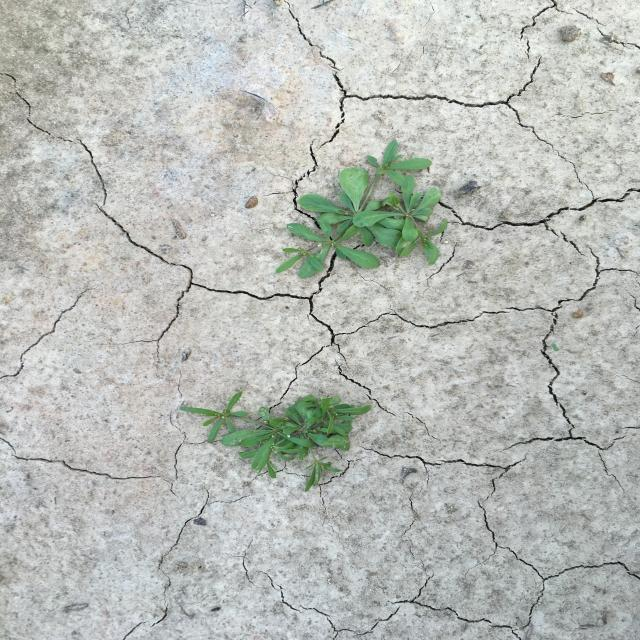Carpetweed: (273, 138, 450, 280), (178, 389, 374, 494)
